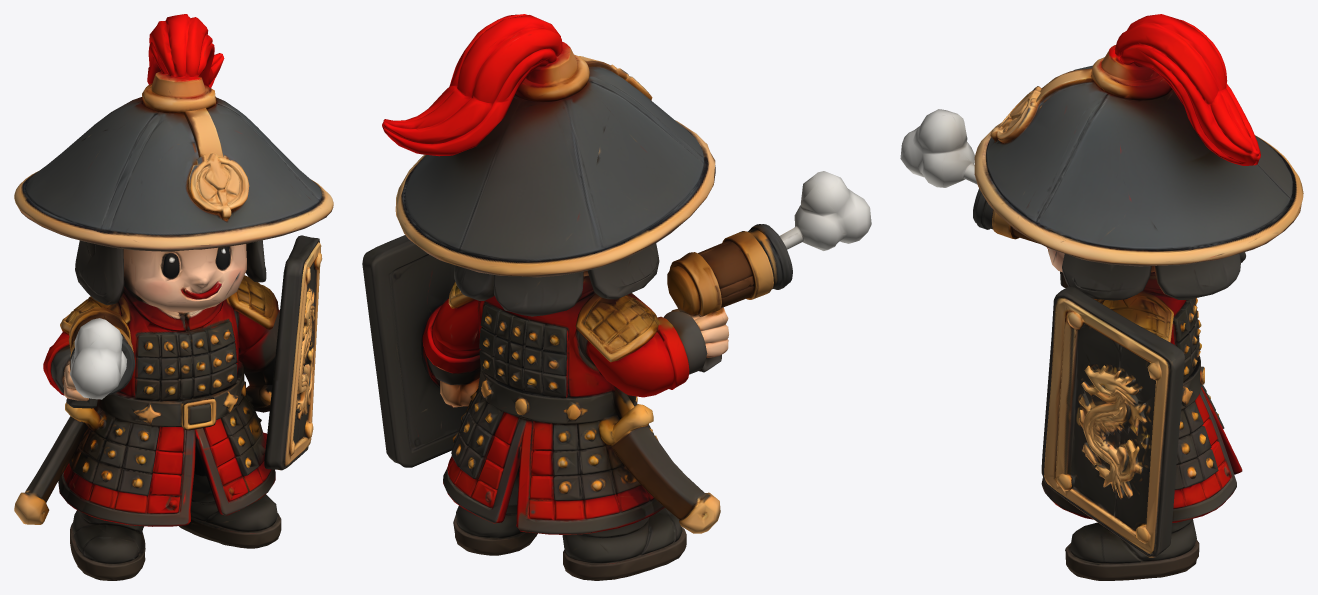
The model's file is child-ming-p-mobile50.glb.
The picture shows the model from 3 angles, left to right: view 1: azimuth 30°, elevation 25°; view 2: azimuth 150°, elevation 25°; view 3: azimuth 270°, elevation 25°; orthographic projection. The views are drawn at different scales.
Visible parts, largest first — view 1: node_0; view 2: node_0; view 3: node_0.
Boxes of the visible parts, x1,y1,x2,y2 form: node_0: [14, 14, 333, 580]; node_0: [362, 14, 871, 580]; node_0: [900, 14, 1303, 580].
Size of the model in its own units: 0.8208 by 1.09 by 0.7508.
Materials: 1 (1 with a texture image).
